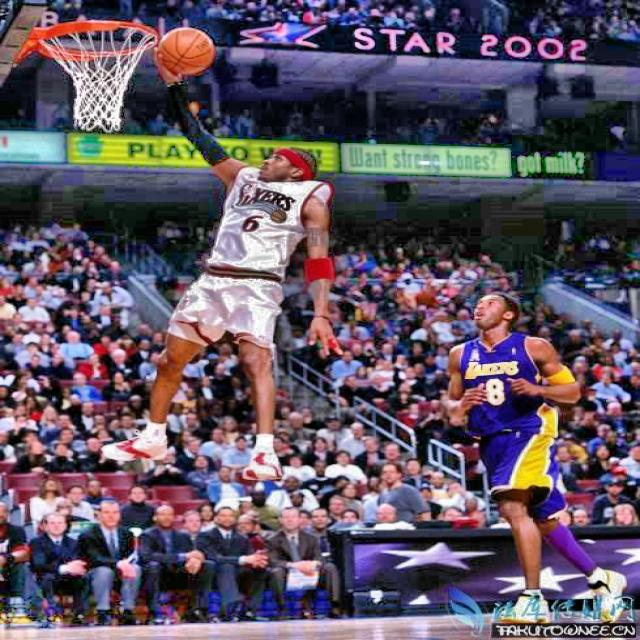board: (159, 26, 215, 74)
rim: (40, 22, 157, 131)
